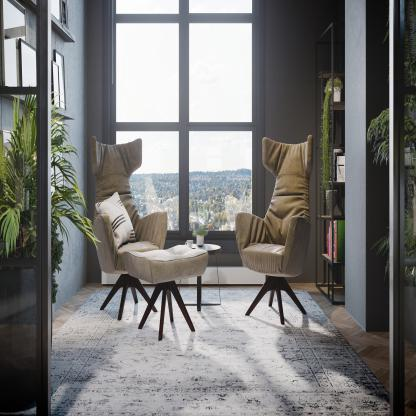chair: (230, 129, 332, 328), (84, 132, 168, 324), (120, 247, 209, 342)
clock: (334, 149, 348, 188)
table: (182, 212, 222, 309)
